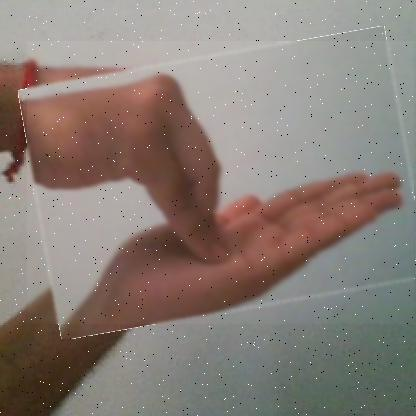Z: (27, 41, 415, 325)
